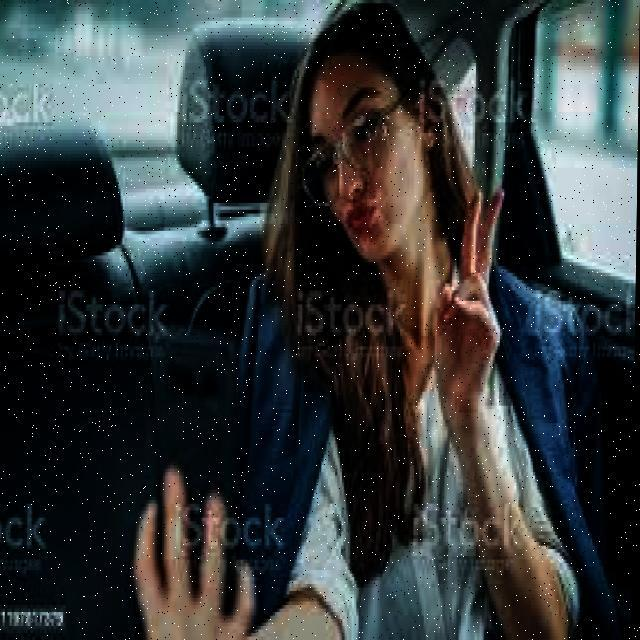noSeatbelt: (292, 273, 534, 640)
